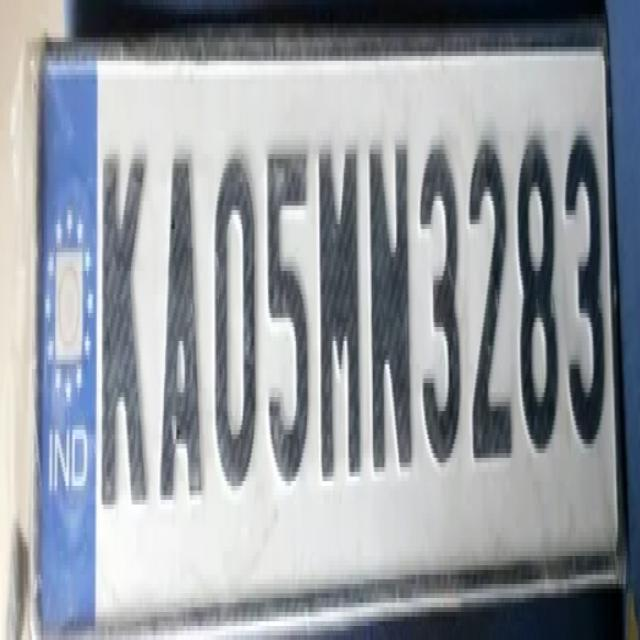0: (210, 138, 259, 511)
3: (564, 102, 608, 463), (418, 130, 464, 473)
5: (263, 144, 310, 492)
8: (516, 108, 564, 462)
A: (156, 115, 204, 518)
K: (99, 135, 149, 526)
M: (314, 135, 364, 498)
N: (368, 132, 417, 489)
